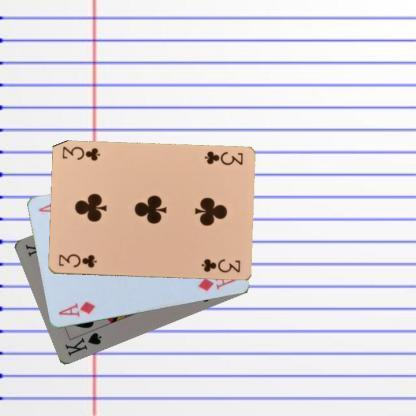3c: (56, 252, 98, 270), (202, 148, 244, 166)
Ad: (56, 298, 96, 318)
Ks: (62, 330, 103, 358)
